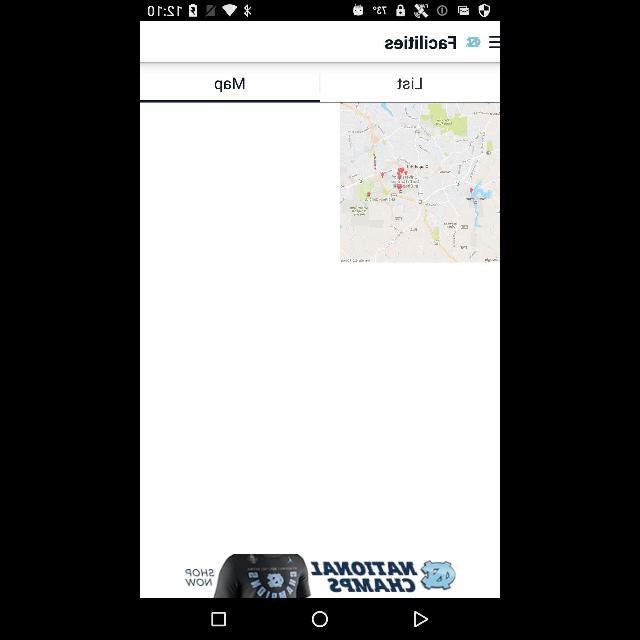icon: (412, 608, 430, 630), (310, 610, 330, 628), (210, 610, 226, 628), (486, 34, 499, 50)
iframe: (178, 556, 456, 598)
image: (466, 34, 480, 51)
map: (339, 103, 498, 263)
multitab: (141, 62, 499, 102)
panel: (140, 597, 500, 639)
text: (382, 35, 458, 51)
toolbar: (140, 21, 500, 60)
uppertaskbar: (141, 1, 499, 20)
